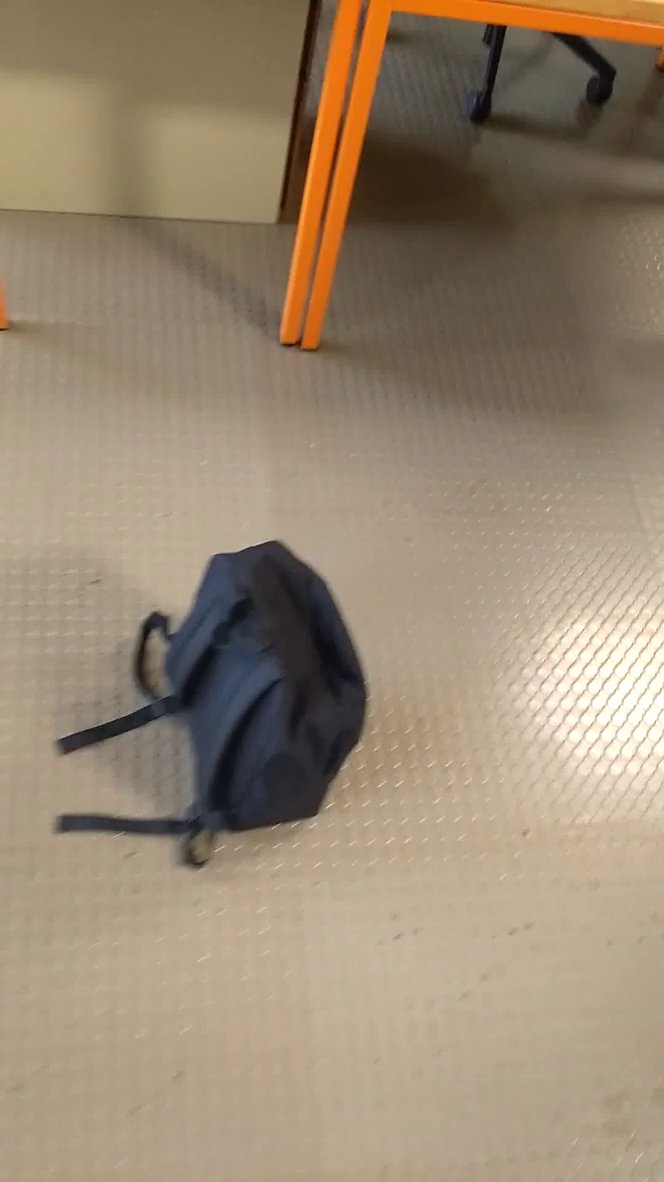bag: (51, 534, 397, 879)
